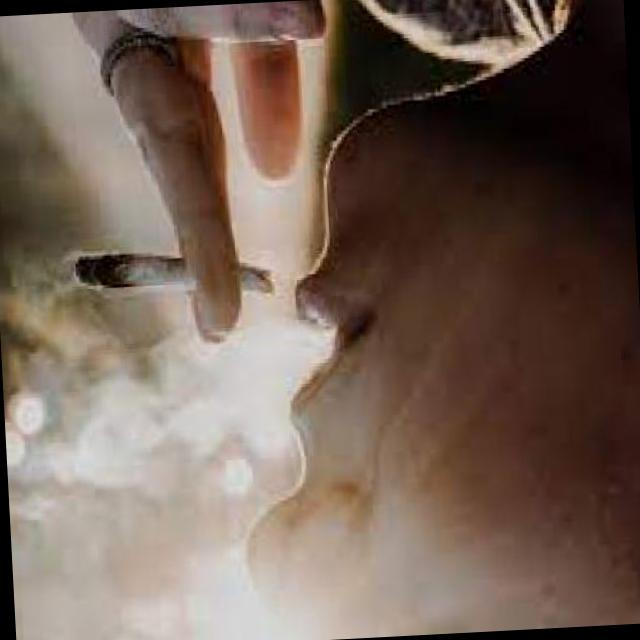smoke: (65, 230, 278, 313)
